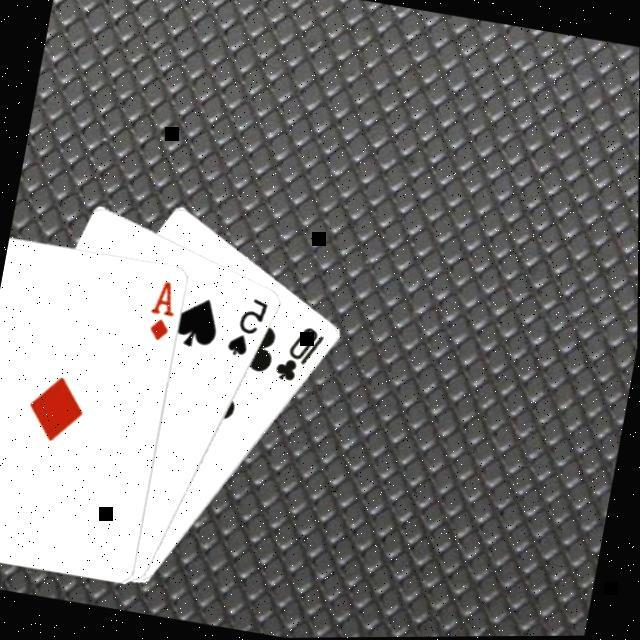10C: (272, 321, 330, 392)
5S: (223, 294, 273, 364)
AD: (144, 278, 184, 347)
